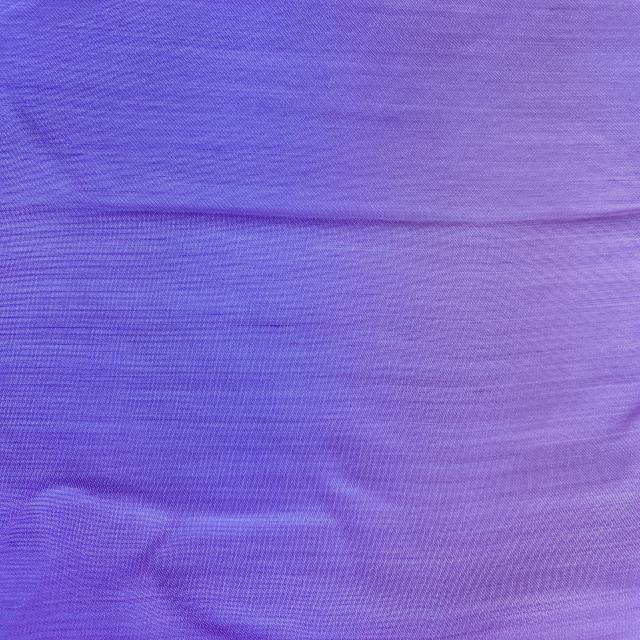broken_yarn: (72, 200, 639, 233)
